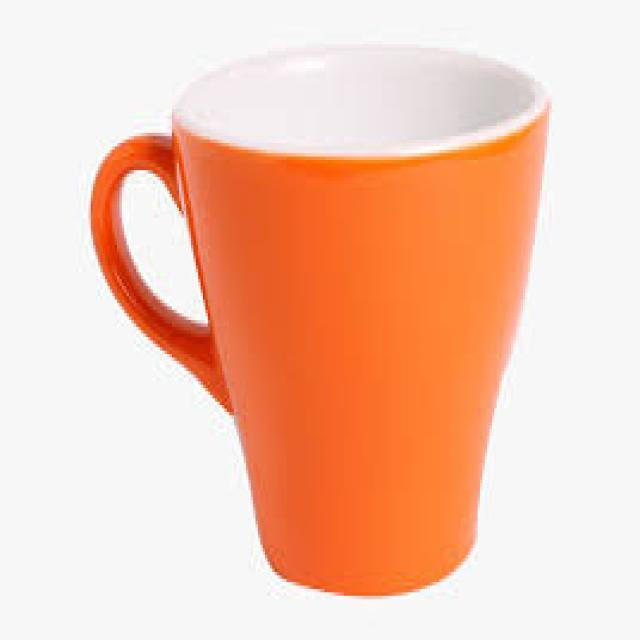taza: (82, 32, 559, 606)
